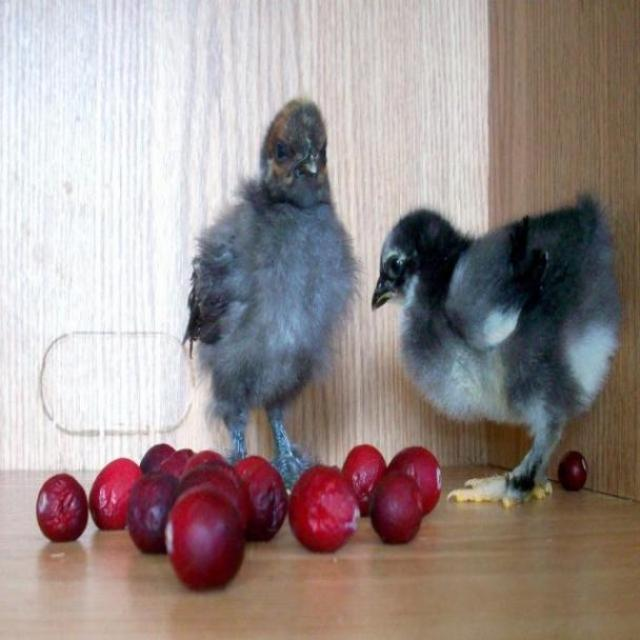Chicken: (188, 99, 352, 507)
